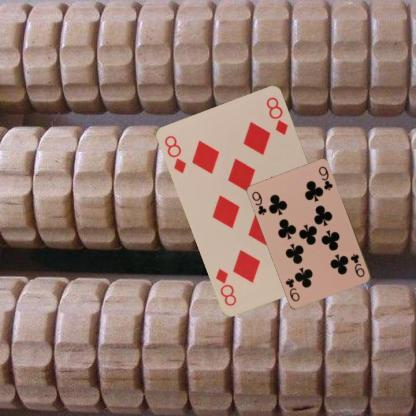8d: (162, 133, 188, 175)
9c: (250, 189, 268, 217), (348, 251, 366, 278)
